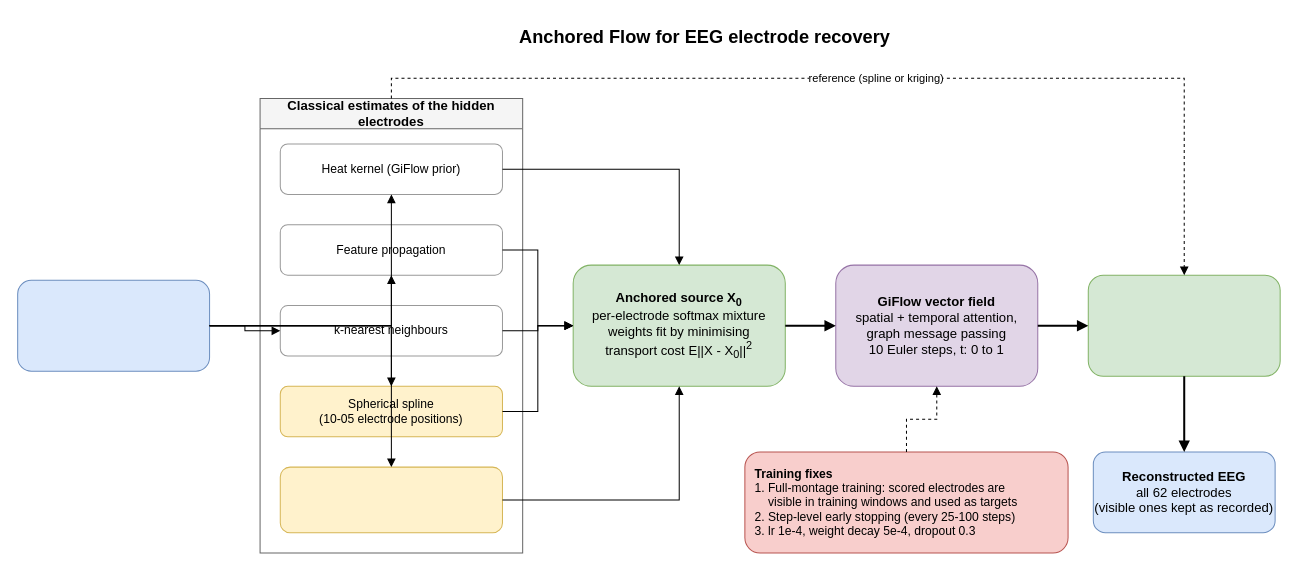
This 1298x571 diagram has some shape labels left out. The shapes that lost their labels are listed below. From the top down, each one's centre as x and y in pixels, then its label:
[113,325]: Input EEG window 62 electrodes x 100 samples 31 visible, 31 failed (hidden)
[1183,325]: Blend w * model + (1 - w) * reference w fit on validation participants
[390,499]: Covariance kriging (training participants, re-weighted per new participant)
